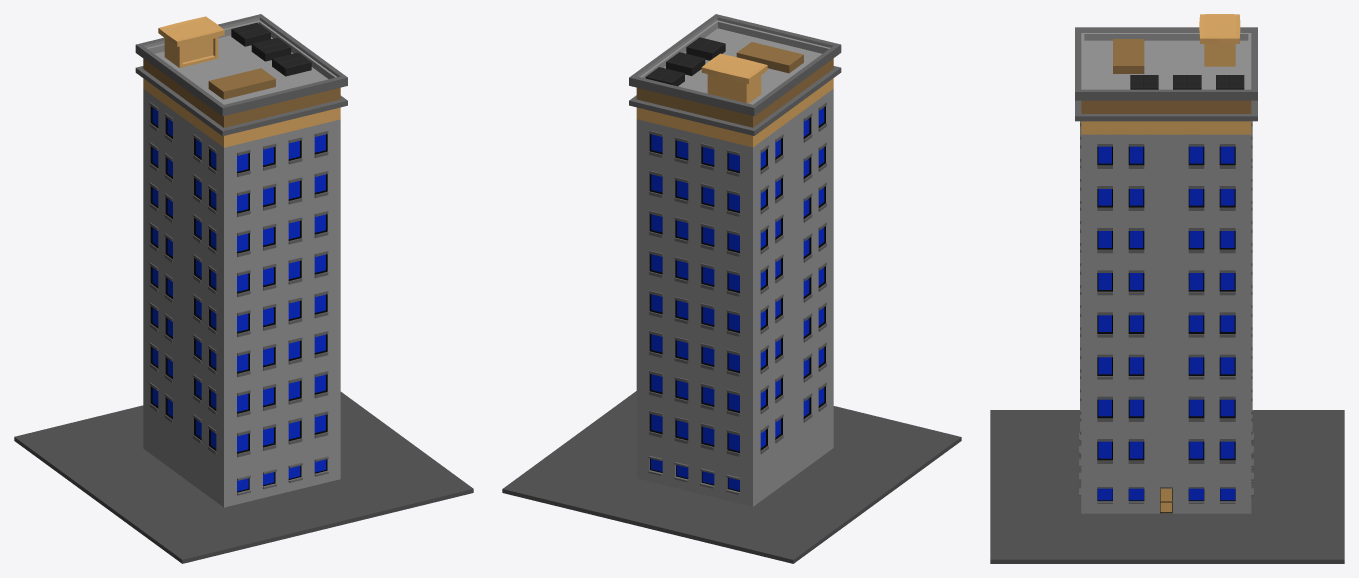
Rendered from Immeuble1_3.FBX.
3 views of the same model, side by side, from view 1: azimuth 30°, elevation 25°; view 2: azimuth 150°, elevation 25°; view 3: azimuth 270°, elevation 25° (orthographic). The views are drawn at different scales.
Visible parts, largest first — view 1: Immeuble1_3; view 2: Immeuble1_3; view 3: Immeuble1_3.
Part boxes in pixels (x1=…): Immeuble1_3: x1=14, y1=14, x2=473, y2=563; Immeuble1_3: x1=502, y1=14, x2=961, y2=563; Immeuble1_3: x1=990, y1=14, x2=1344, y2=563.
Size of the model in its own units: 2500 by 2500 by 3495.
